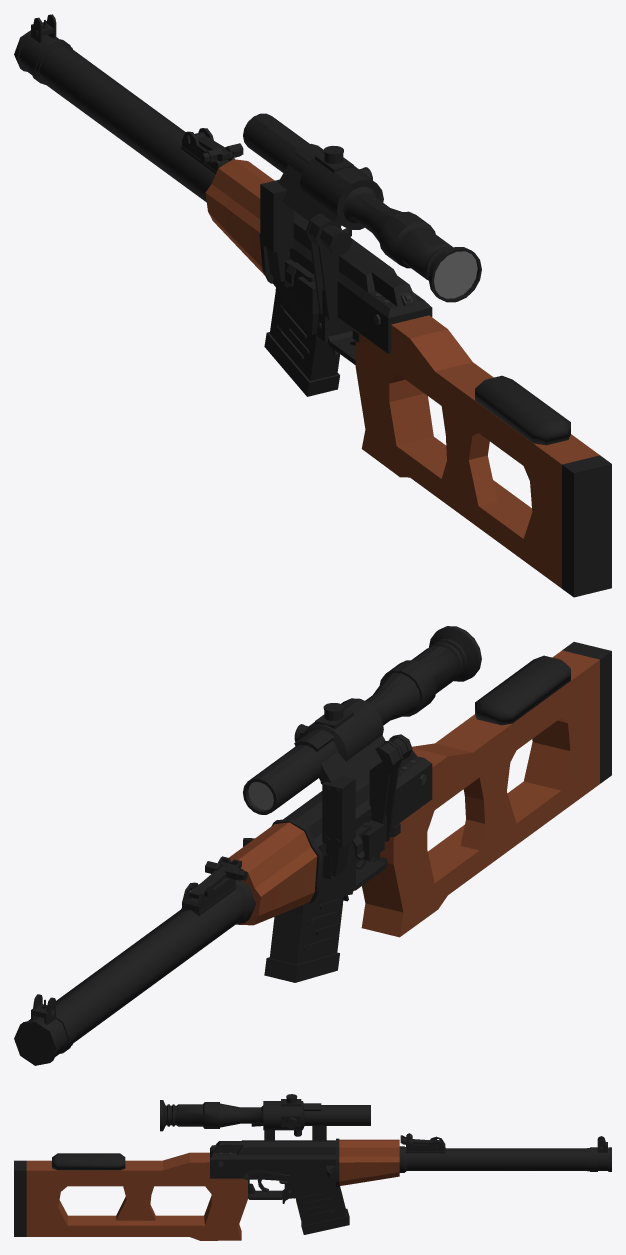
Rendered from vss_vintorez_low_poly.glb.
3 views of the same model, one above another, from view 1: azimuth 30°, elevation 25°; view 2: azimuth 150°, elevation 25°; view 3: azimuth 270°, elevation 25° (orthographic). The views are drawn at different scales.
Parts seen in each view (by area): view 1: Cube.004, Cube.026, Barrel, Cube.018, Cube.001, Cube.027, Cube.002, Cube.028, Cube.035, Cube.045, Cube.046; view 2: Cube.004, Cube.026, Cube.018, Barrel, Cube.027, Cube.002, Cube.001, Cube.028, Cube.045, Cube.035, Cube.046, Cube.042 (+1 smaller); view 3: Cube.004, Cube.026, Cube.001, Barrel, Cube.018, Cube.002, Cube.035, Cube.028, Cube.046, Cube.045, Cube.027, Cube.013 (+1 smaller).
Boxes of the visible parts, <box> form: Cube.004: <box>355,315,611,597</box>; Cube.026: <box>243,113,481,302</box>; Barrel: <box>14,30,215,202</box>; Cube.018: <box>360,316,611,597</box>; Cube.001: <box>273,210,432,353</box>; Cube.027: <box>260,179,352,320</box>; Cube.002: <box>205,159,274,275</box>; Cube.028: <box>475,375,570,445</box>; Cube.035: <box>264,288,339,396</box>; Cube.045: <box>289,316,340,396</box>; Cube.046: <box>181,128,234,173</box>; Cube.004: <box>361,642,611,937</box>; Cube.026: <box>243,626,481,814</box>; Cube.018: <box>362,642,611,926</box>; Barrel: <box>14,877,255,1065</box>; Cube.027: <box>322,734,412,879</box>; Cube.002: <box>229,822,317,925</box>; Cube.001: <box>283,750,432,900</box>; Cube.028: <box>475,655,570,725</box>; Cube.045: <box>264,896,343,982</box>; Cube.035: <box>271,896,342,982</box>; Cube.046: <box>181,878,236,915</box>; Cube.042: <box>189,856,241,898</box>; Cube.004: <box>14,1152,247,1240</box>; Cube.026: <box>160,1094,370,1136</box>; Cube.001: <box>210,1140,335,1198</box>; Barrel: <box>399,1146,611,1172</box>; Cube.018: <box>14,1162,242,1236</box>; Cube.002: <box>339,1139,399,1185</box>; Cube.035: <box>296,1186,349,1234</box>; Cube.028: <box>52,1153,125,1170</box>; Cube.046: <box>405,1136,445,1153</box>; Cube.045: <box>296,1186,345,1234</box>; Cube.027: <box>251,1123,326,1140</box>; Cube.013: <box>248,1189,284,1199</box>.
Size of the model in its own units: 39.01 by 99.2 by 385.
